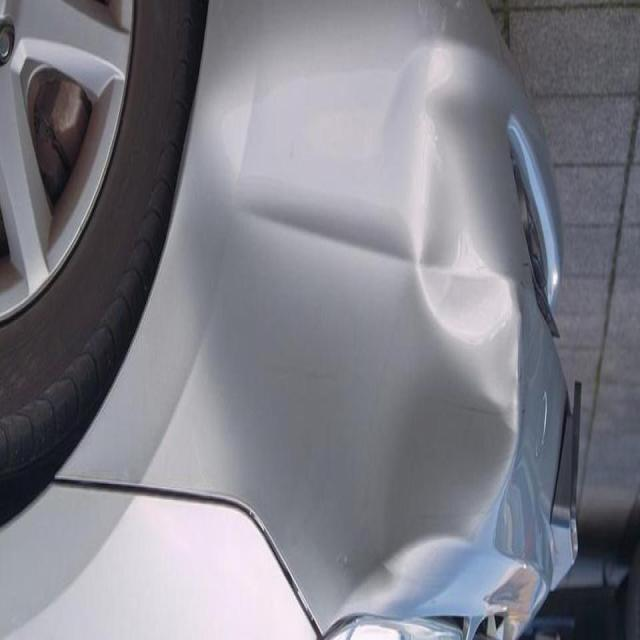dent: (198, 53, 516, 640)
